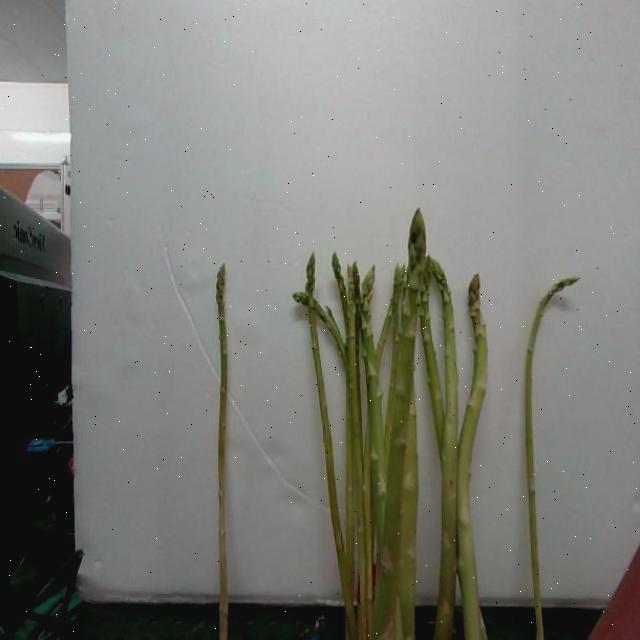aspargus: (376, 209, 428, 640), (524, 277, 580, 640), (215, 266, 231, 640)
